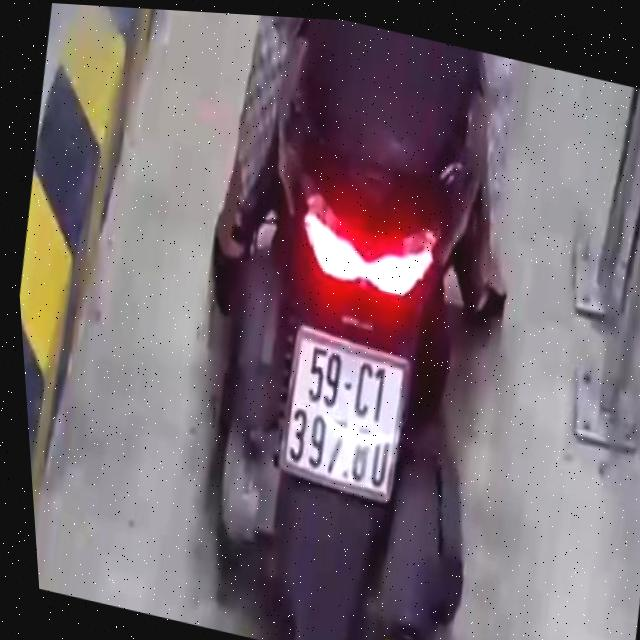motorcycle: (138, 8, 579, 640)
plate: (260, 312, 425, 511)
